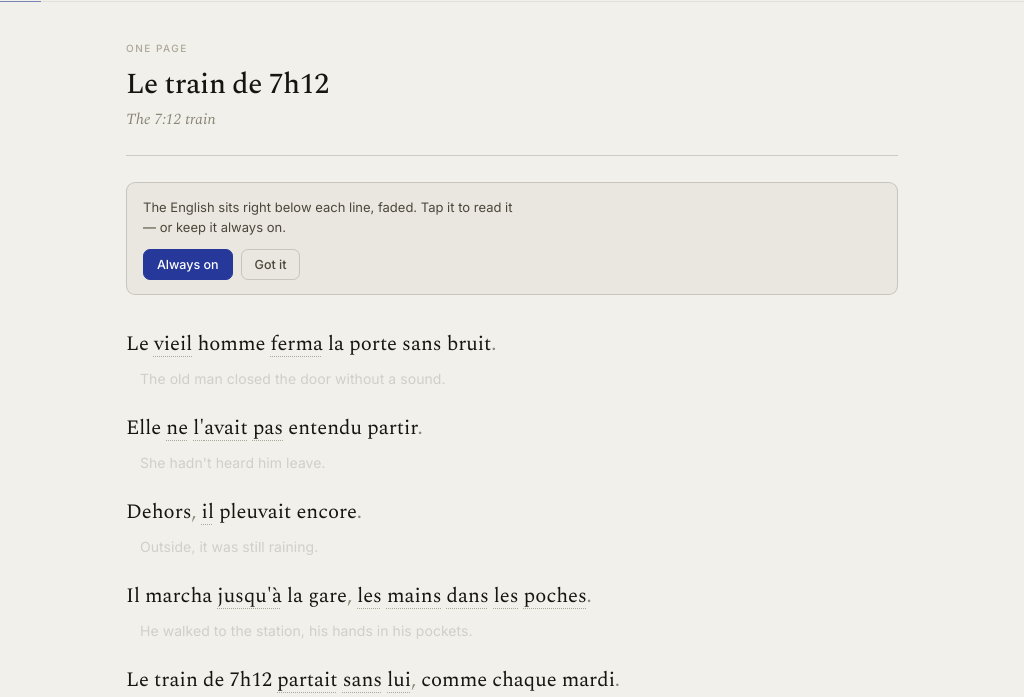
the reader › offers the nudge, and "Always on" switches every line on at once
The image size is (1024, 697).
Click the button "Always on" at (188, 265), box x1=143 y1=249 x2=233 y2=280
(page scrolled)
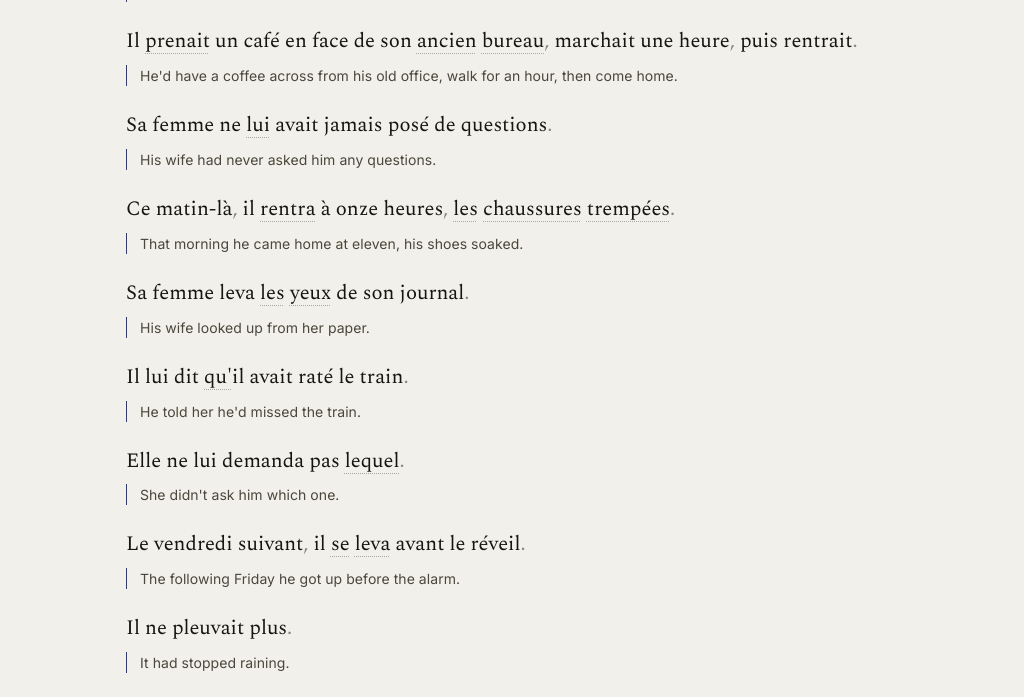
Check: the text "Always on" is gone
